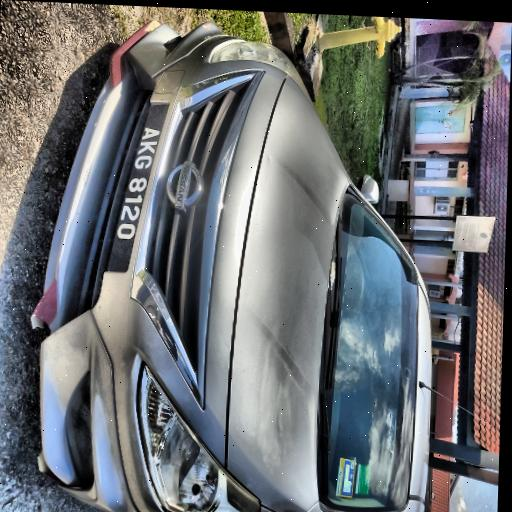license_plate: (96, 102, 168, 268)
